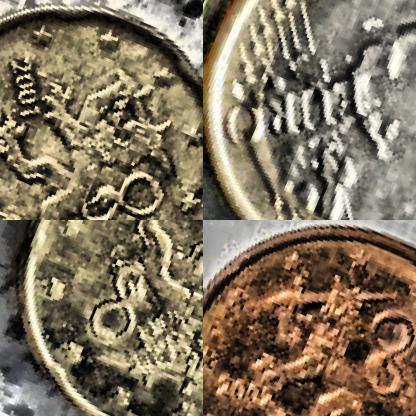coin: (203, 0, 415, 219), (0, 0, 202, 219), (203, 220, 415, 415), (0, 220, 202, 415)
